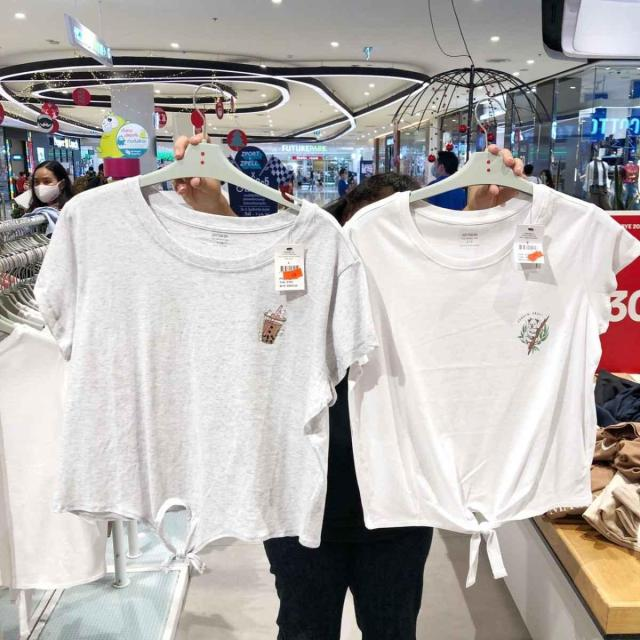Tshirt: (37, 169, 345, 542), (335, 187, 619, 543)
